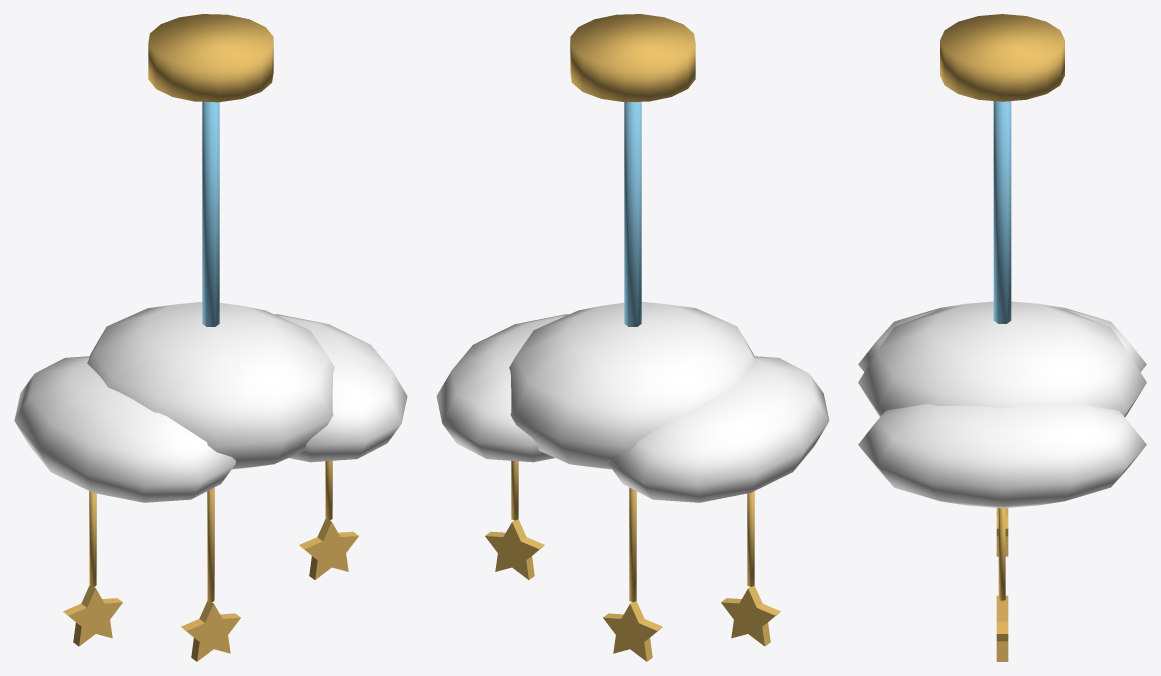
The model's file is lamp_cloud.glb.
3 views of the same model, side by side, from view 1: azimuth 30°, elevation 25°; view 2: azimuth 150°, elevation 25°; view 3: azimuth 270°, elevation 25° (orthographic).
Visible parts, largest first — view 1: Body; view 2: Body; view 3: Body.
Part boxes in pixels (x1,y1,x2,y2): Body: [14, 14, 407, 661]; Body: [436, 14, 829, 661]; Body: [858, 14, 1146, 661].
Size of the model in its own units: 0.408 by 0.6975 by 0.3.
4 materials, 4 textured.
